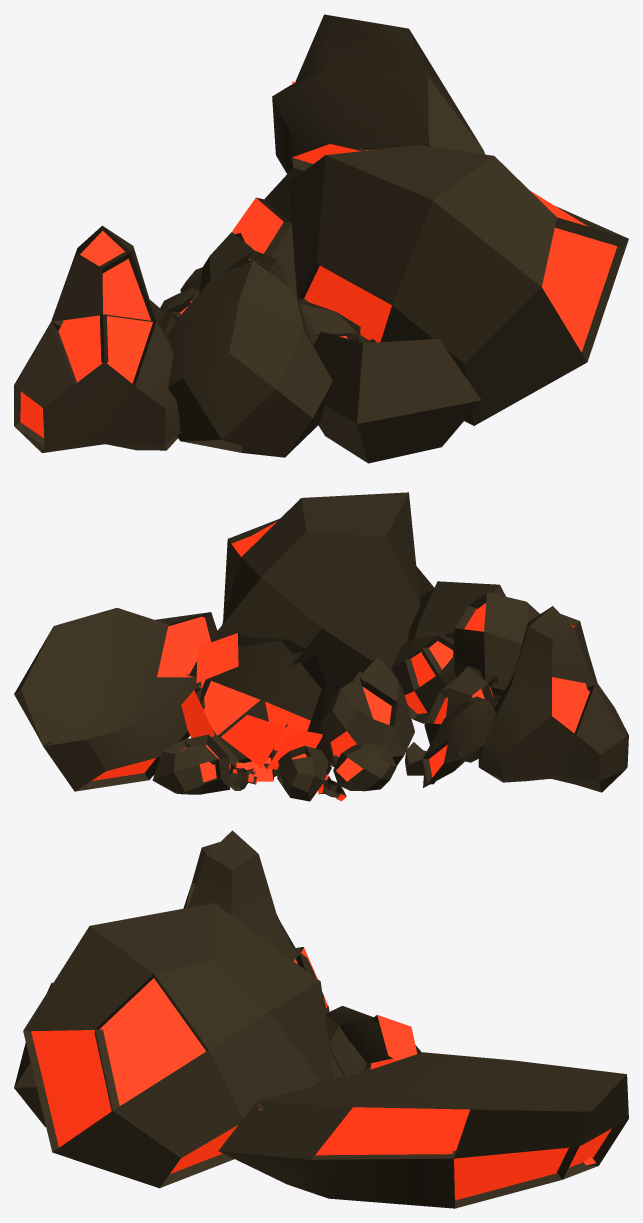
The model's file is Boulder Corner.fbx.
3 renders of one model, top to bottom at view 1: azimuth 30°, elevation 25°; view 2: azimuth 150°, elevation 25°; view 3: azimuth 270°, elevation 25°, orthographic. The views are drawn at different scales.
Parts seen in each view (by area): view 1: rock.009; view 2: rock.009; view 3: rock.009.
Part boxes in pixels (left/top/right/bottom): rock.009: left=14, top=14, right=628, bottom=463; rock.009: left=14, top=492, right=628, bottom=801; rock.009: left=14, top=830, right=628, bottom=1208.
Bounding box in the file's own units: 633 × 273 × 657.
